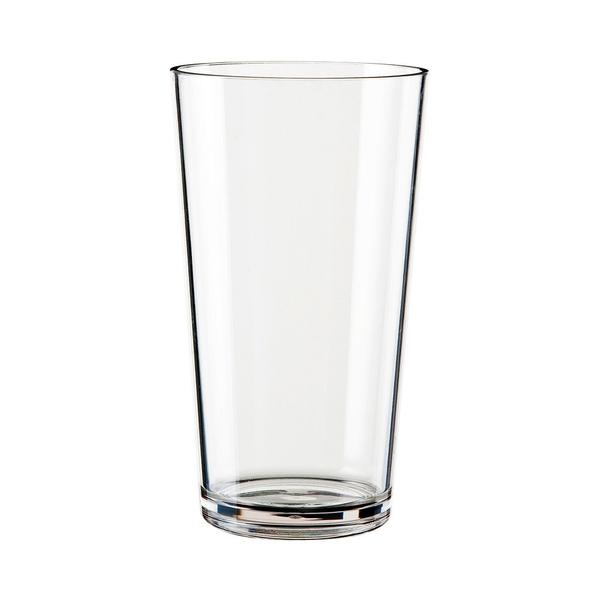glass: (167, 58, 432, 544)
